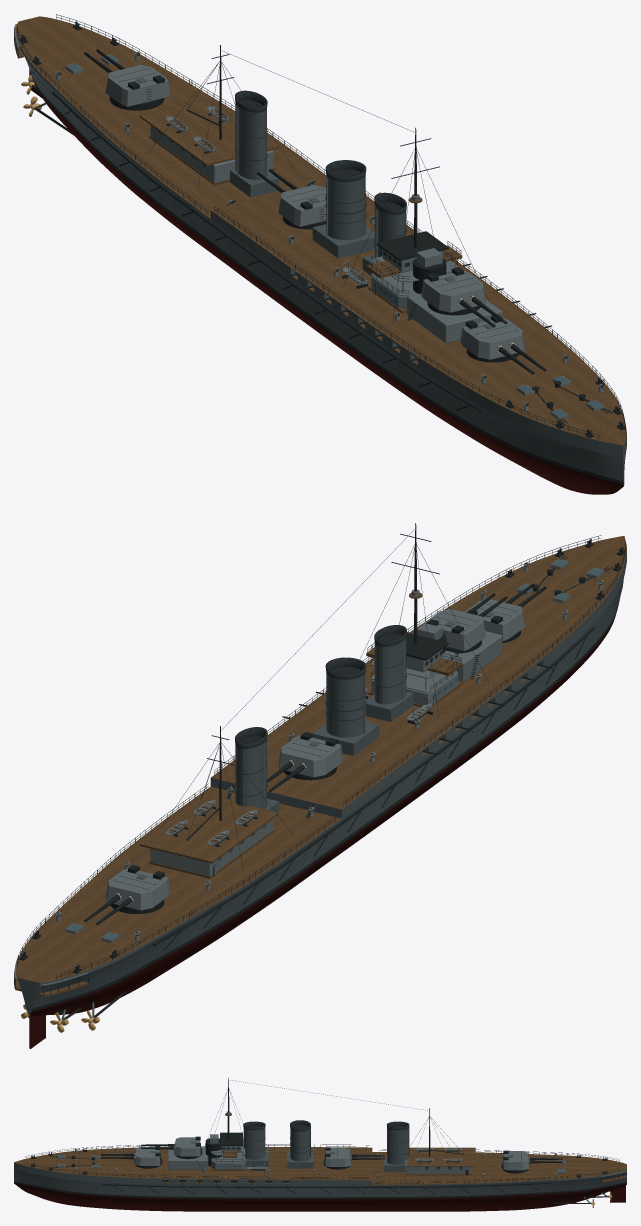
The model's file is QueenMary_v4_Gameplay.fbx.
The picture shows the model from 3 angles, top to bottom: view 1: azimuth 30°, elevation 25°; view 2: azimuth 150°, elevation 25°; view 3: azimuth 270°, elevation 25°; orthographic projection. The views are drawn at different scales.
Parts seen in each view (by area): view 1: Forecastle, Hull, Quarterdeck, Presentation_Fittings, Deck_Visual_Details, Aft_Platform, Funnel_2, Funnel_3, Turret_B, Turret_X, Torpedo_Net_Starboard_Mesh, Turret_A (+9 smaller); view 2: Forecastle, Hull, Quarterdeck, Presentation_Fittings, Aft_Platform, Deck_Visual_Details, Funnel_2, Funnel_3, Funnel_1, Torpedo_Net_Starboard_Mesh, Turret_X, Turret_Q (+9 smaller); view 3: Hull, Forecastle, Quarterdeck, Presentation_Fittings, Deck_Visual_Details, Aft_Platform, Torpedo_Net_Port_Mesh, Funnel_3, Funnel_1, Funnel_2, B_Superfiring_Deckhouse, Aft_Deckhouse (+12 smaller).
Part boxes in pixels (x1,y1,x2,y2): Forecastle: (210, 182, 626, 457); Hull: (25, 57, 626, 494); Quarterdeck: (16, 16, 326, 218); Presentation_Fittings: (19, 21, 625, 484); Deck_Visual_Details: (17, 14, 625, 449); Aft_Platform: (139, 98, 278, 165); Funnel_2: (325, 160, 366, 240); Funnel_3: (235, 90, 267, 179); Turret_B: (421, 267, 485, 312); Turret_X: (105, 65, 170, 106); Torpedo_Net_Starboard_Mesh: (52, 91, 483, 413); Turret_A: (460, 314, 524, 359); Forecastle: (210, 536, 626, 818); Hull: (18, 578, 623, 1015); Quarterdeck: (16, 786, 341, 986); Presentation_Fittings: (19, 539, 625, 1011); Aft_Platform: (139, 795, 278, 863); Deck_Visual_Details: (17, 535, 625, 979); Funnel_2: (325, 657, 366, 737); Funnel_3: (235, 727, 267, 809); Funnel_1: (374, 625, 406, 704); Torpedo_Net_Starboard_Mesh: (153, 626, 594, 950); Turret_X: (105, 865, 170, 910); Turret_Q: (278, 732, 343, 777); Hull: (14, 1169, 626, 1211); Forecastle: (14, 1147, 372, 1185); Quarterdeck: (372, 1152, 626, 1185); Presentation_Fittings: (14, 1139, 626, 1198); Deck_Visual_Details: (25, 1144, 619, 1190); Aft_Platform: (406, 1147, 475, 1166); Torpedo_Net_Port_Mesh: (102, 1182, 550, 1194); Funnel_3: (386, 1121, 409, 1165); Funnel_1: (243, 1121, 265, 1160); Funnel_2: (290, 1120, 310, 1161); B_Superfiring_Deckhouse: (168, 1146, 208, 1169); Aft_Deckhouse: (405, 1159, 471, 1173).
Size of the model in its own units: 32.1 by 50.09 by 213.
9 materials, 5 textured.
